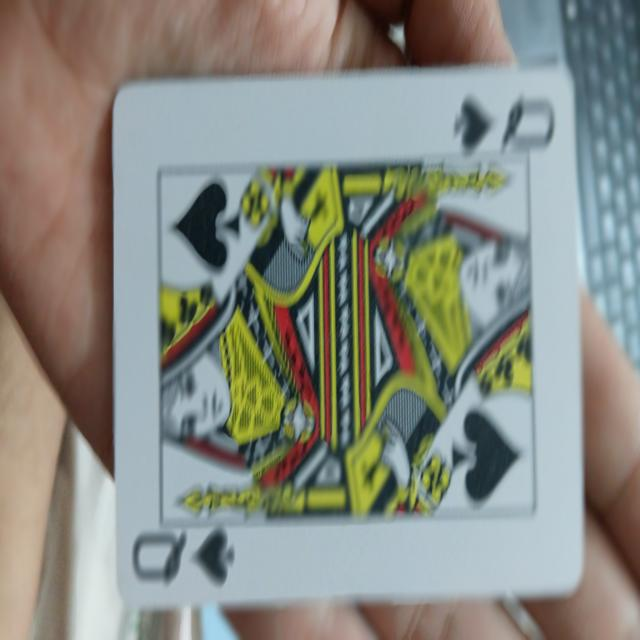QS: (114, 71, 581, 594)
